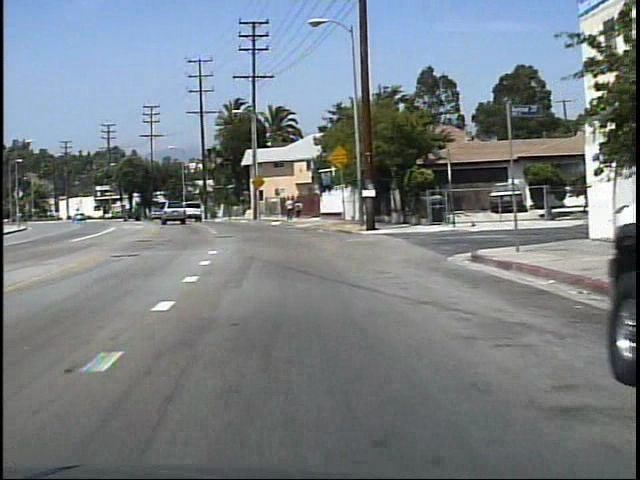person: (284, 196, 295, 222), (294, 199, 304, 221)
